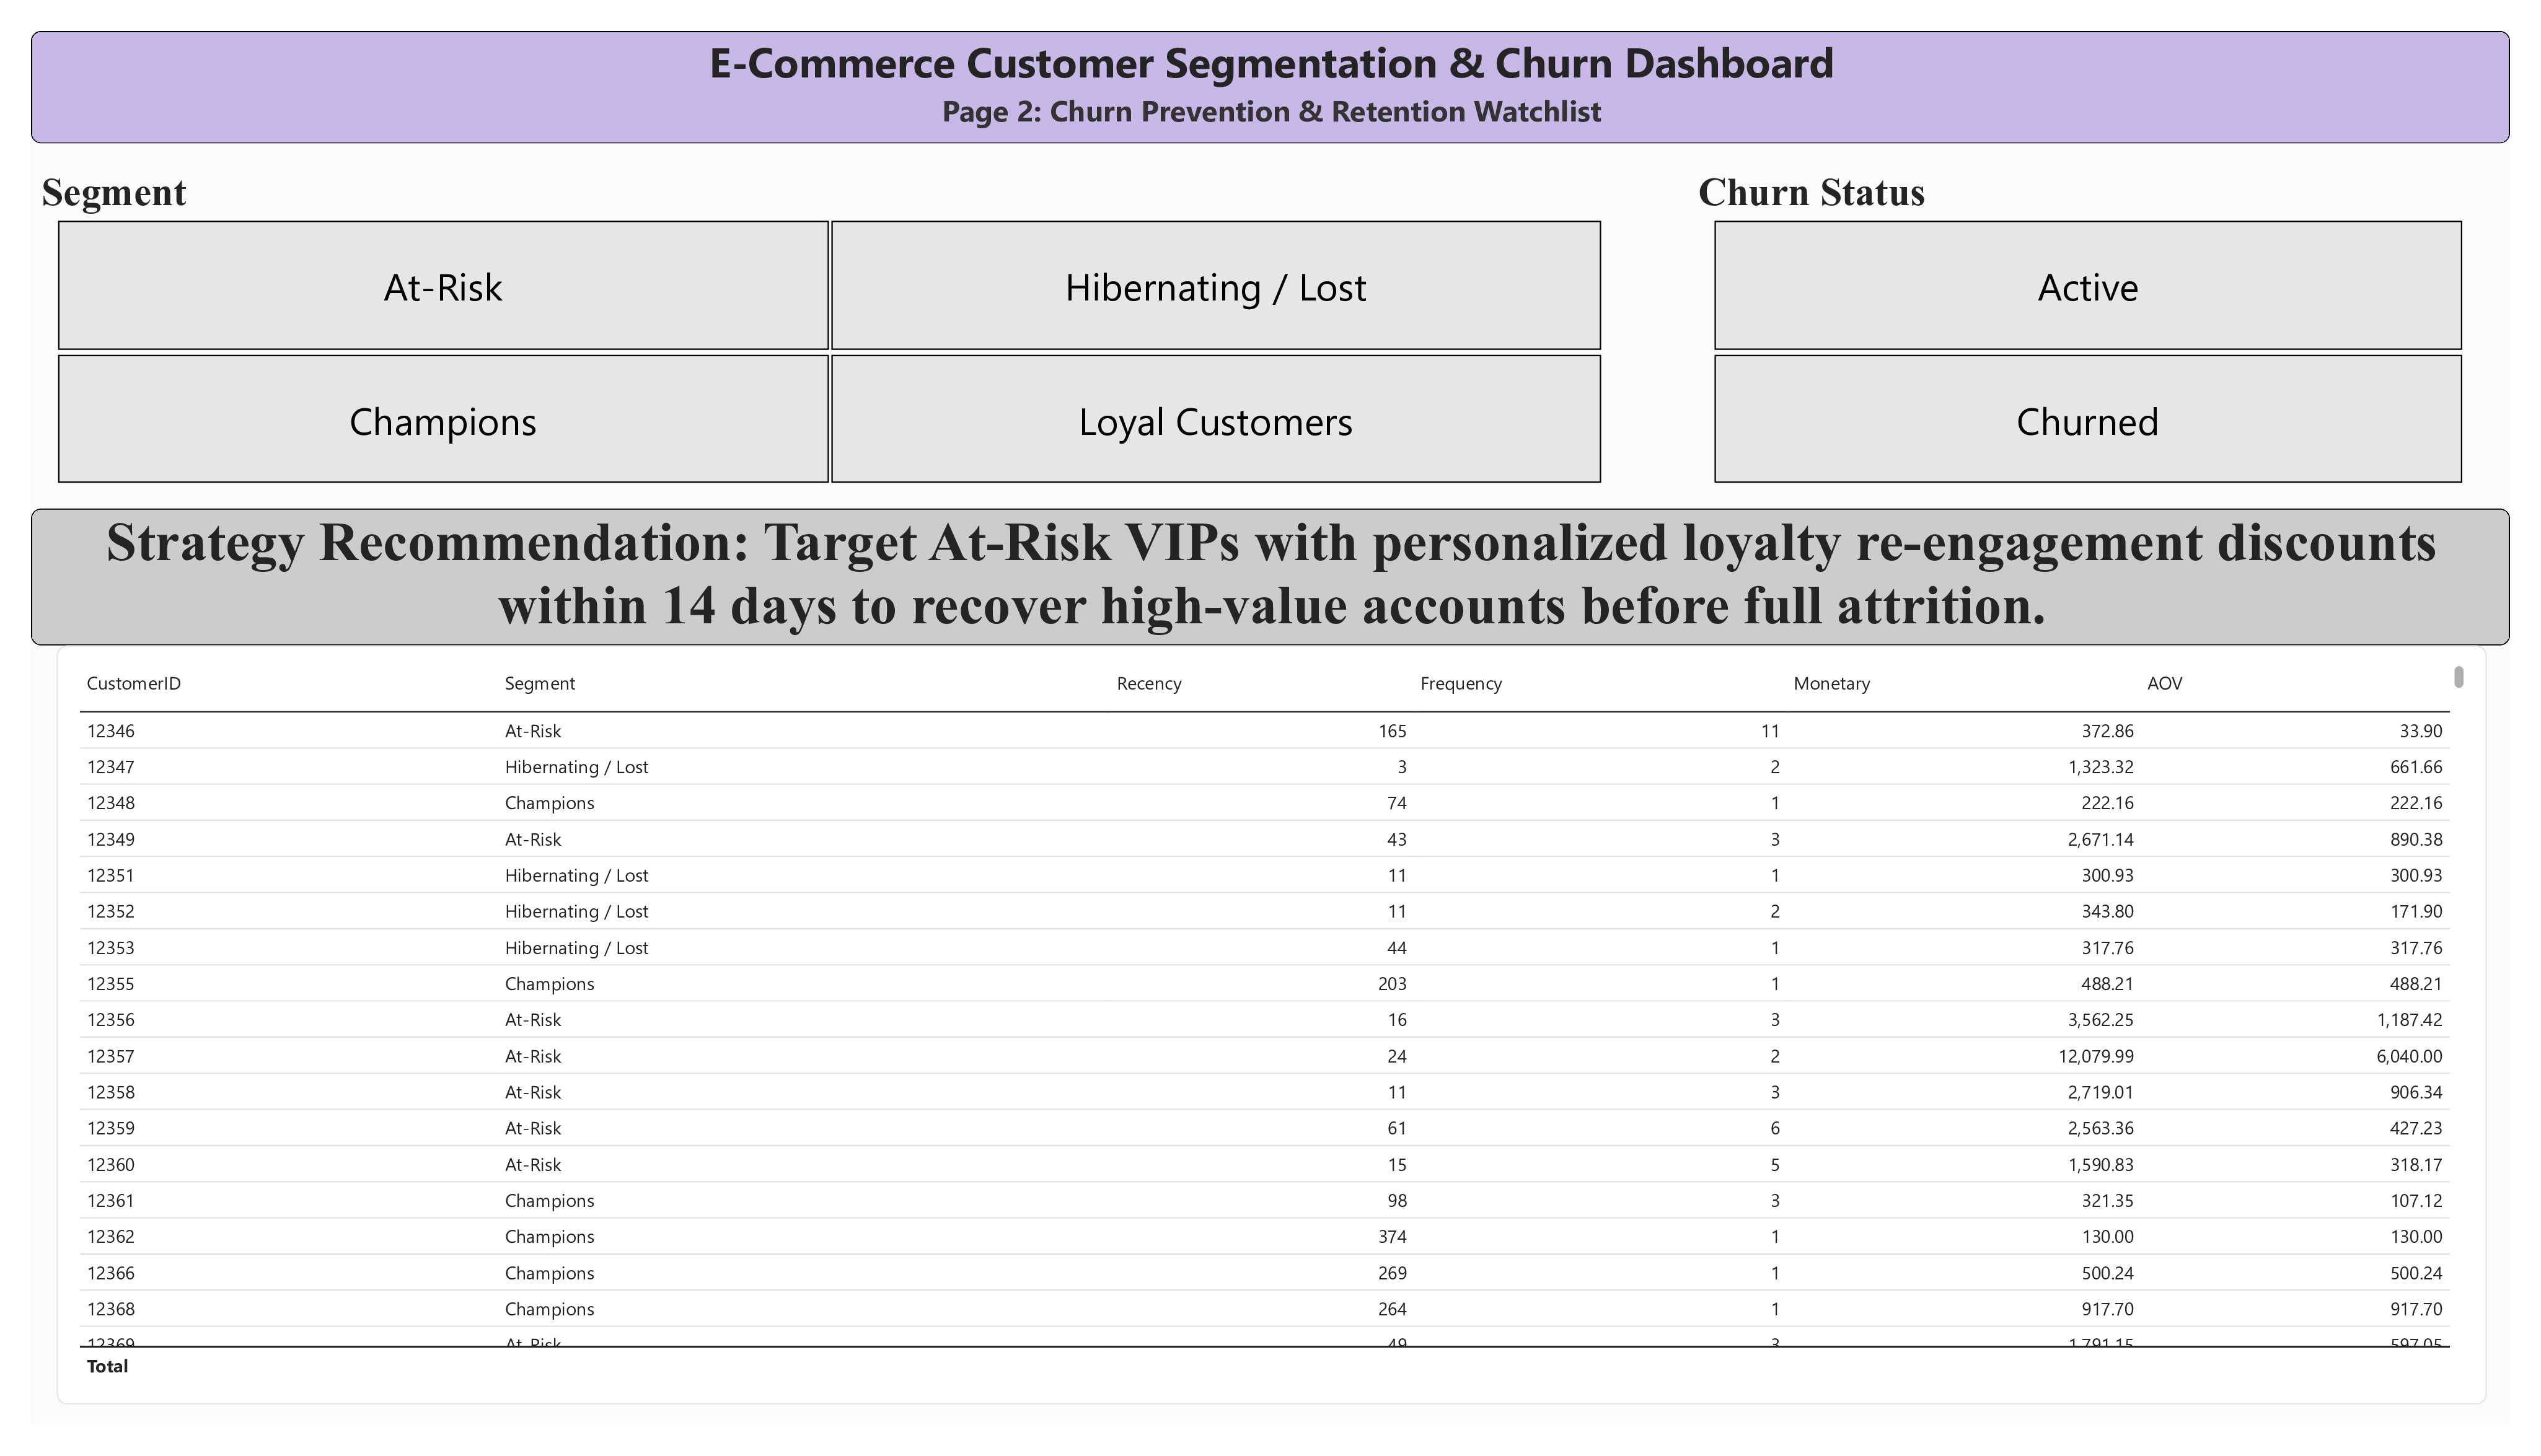

This screenshot's page, from the dashboard's own definition file:
{"tool":"powerbi","page":{"name":"Churn Watchlist","canvas":[1920,1080],"ordinal":1},"visuals":[{"type":"textbox","title":"E-Commerce Customer Segmentation & Churn Dashboard","box":[0,0,1920,86.7],"z":0},{"type":"slicer","fields":{"Values":["customer_rfm_segments.Segment"]},"box":[0,107.8,1234.6,244.1],"z":1000},{"type":"slicer","fields":{"Values":["customer_rfm_segments.Churn Status"]},"box":[1283.4,107.8,618.3,244.1],"z":2000},{"type":"textbox","title":"Strategy Recommendation: Target At-Risk VIPs with personalized loyalty re-engagement discounts within 14 days to recover high-value accounts before full attrition. ","box":[0,370.2,1920,105.8],"z":3000},{"type":"tableEx","fields":{"Values":["customer_rfm_segments.CustomerID","customer_rfm_segments.Segment","customer_rfm_segments.Recency","customer_rfm_segments.Frequency","customer_rfm_segments.Monetary","customer_rfm_segments.AOV"]},"box":[20.3,475.9,1881.4,587.8],"z":4000}]}

Visuals, with their boxes on the page's 1920x1080 design canvas (x1, y1, x2, y2). These are canvas units, not pixel positions in the 2541x1456 screenshot, which may show the page scaled, cropped or inside an application window:
"E-Commerce Customer Segmentation & Churn Dashboard" textbox: detection(0, 0, 1920, 87)
slicer - customer_rfm_segments.Segment: detection(0, 108, 1235, 352)
slicer - customer_rfm_segments.Churn Status: detection(1283, 108, 1902, 352)
"Strategy Recommendation: Target At-Risk VIPs with personalized loyalty re-engagement discounts within 14 days to recover high-value accounts before full attrition. " textbox: detection(0, 370, 1920, 476)
tableEx - customer_rfm_segments.CustomerID x customer_rfm_segments.Segment: detection(20, 476, 1902, 1064)
